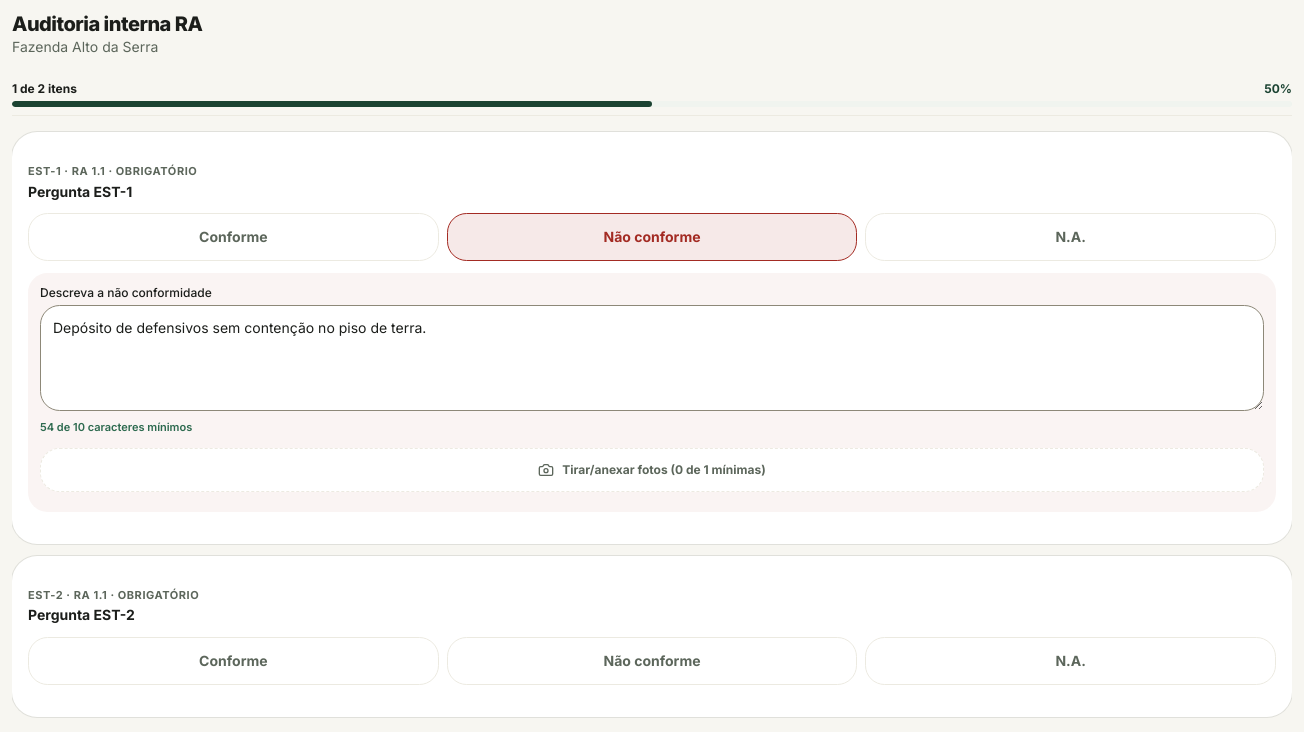
Test: Trocar a resposta de um item › não apaga a descrição da NC — guarda e devolve ao voltar para NC
The image size is (1304, 732).
Check: the text box labelled "Descreva a não conformidade" holds "Depósito de defensivos sem contenção no piso de terra.", box [40,305,1264,411]
Note: Toque errado com luva: marca "Conforme".
Click the button "Conforme" below "Pergunta EST-1" at point(233, 237), box [28,213,439,261]
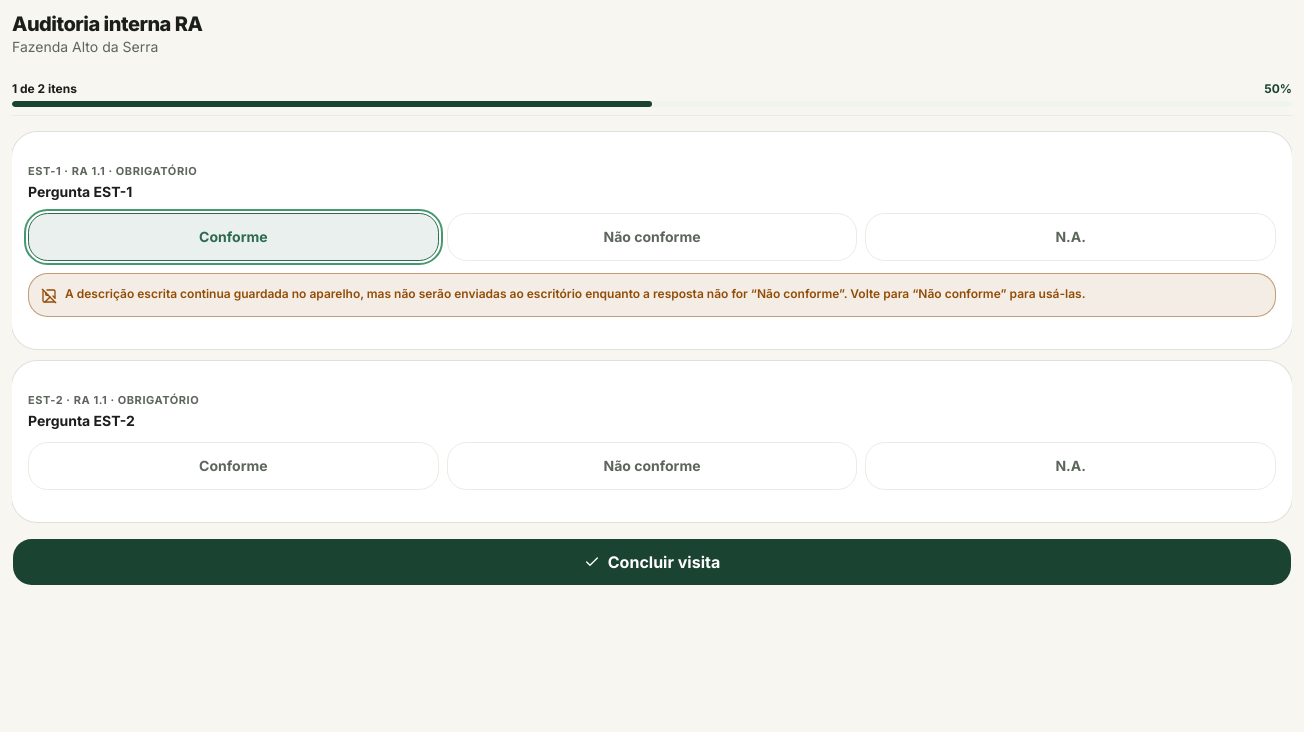
Check: the label labelled "Descreva a não conformidade" is gone
Note: Volta para NC: o texto está inteiro de novo.
Click the 1st button "Não conforme" at point(652, 237), box [447,213,857,261]
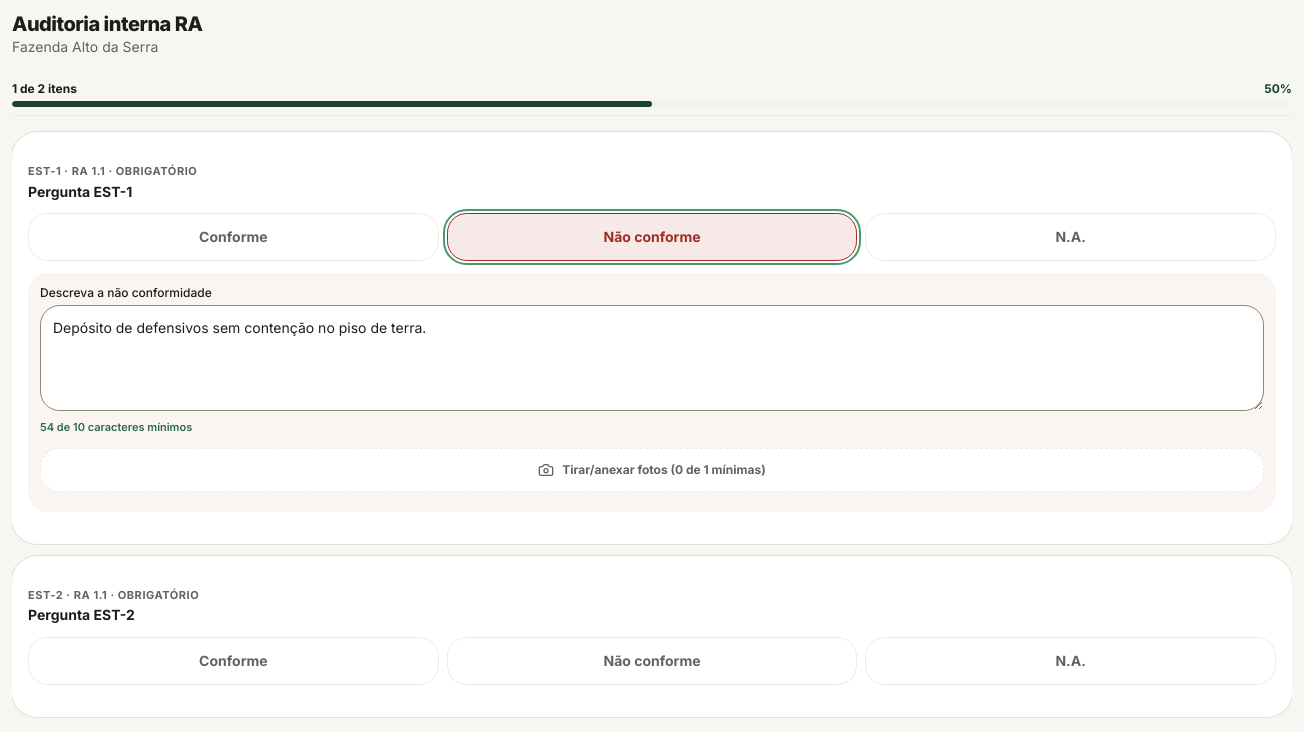
Check: the text box labelled "Descreva a não conformidade" holds "Depósito de defensivos sem contenção no piso de terra.", box [40,305,1264,411]
